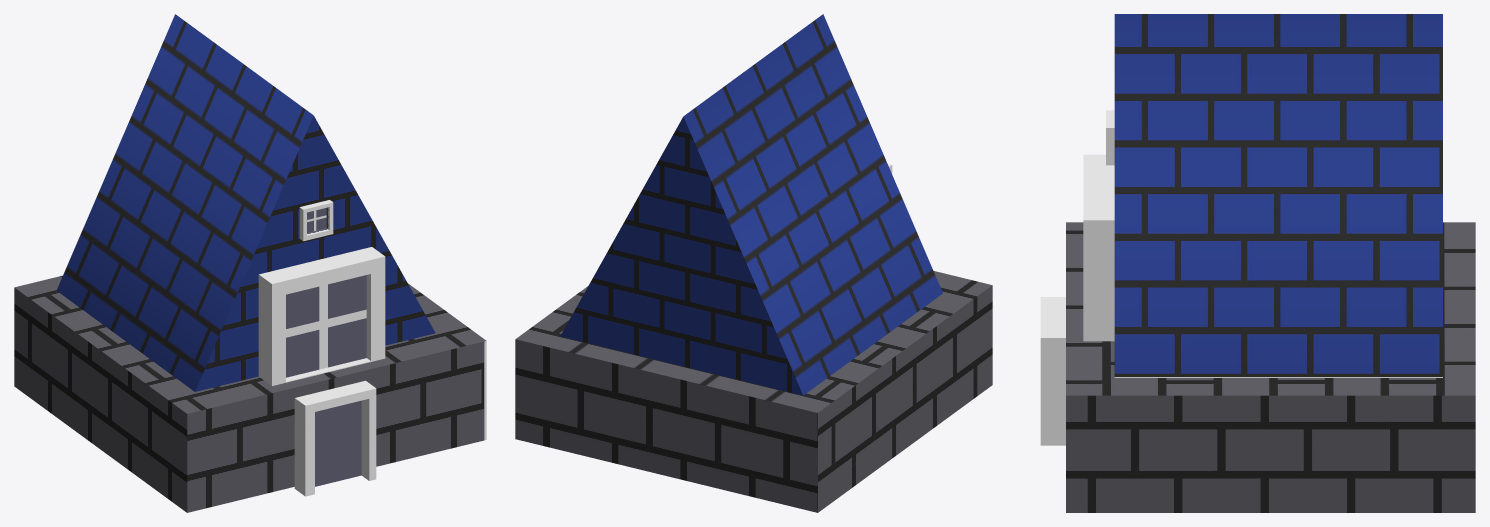
Rendered from shapes_tri.fbx.
3 views of the same model, side by side, from view 1: azimuth 30°, elevation 25°; view 2: azimuth 150°, elevation 25°; view 3: azimuth 270°, elevation 25° (orthographic). The views are drawn at different scales.
Parts seen in each view (by area): view 1: polySurface10; view 2: polySurface10; view 3: polySurface10.
Boxes of the visible parts, x1=… form: polySurface10: x1=14, y1=14, x2=486, y2=512; polySurface10: x1=515, y1=14, x2=992, y2=512; polySurface10: x1=1040, y1=14, x2=1475, y2=512.
Bounding box in the file's own units: 9.91 × 11.03 × 10.99.
Materials: 1 (1 with a texture image).
